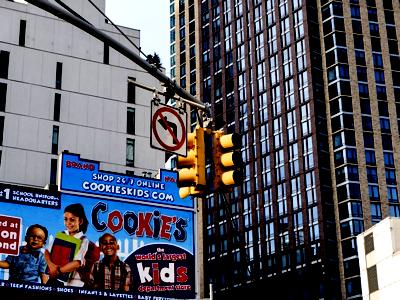International Road Signal Light: (177, 125, 207, 197), (213, 129, 241, 192)
